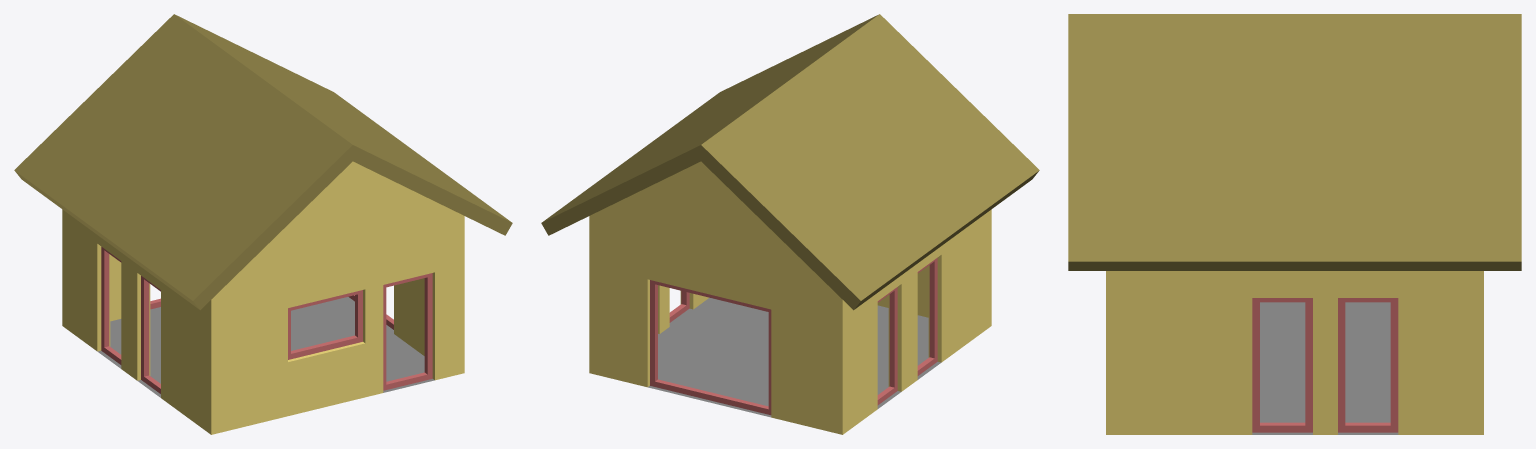
File: result.glb
3 views of the same model, side by side, from view 1: azimuth 30°, elevation 25°; view 2: azimuth 150°, elevation 25°; view 3: azimuth 270°, elevation 25° (orthographic). The views are drawn at different scales.
Visible parts, largest first — view 1: 42b646d1-0370-4e40-a0f1-a20bf0607f18__undefined (×2), 41065627-149d-4558-b892-41cf09c2eee4__undefined, ac9138f0-85b7-4ab2-bd9b-ecd86cc61a55__Plane_8, 0f33c2fe-a102-4fc2-b3b8-2ec8c4fa7dd3__Box, 7f176139-d92b-42cc-9e64-43eaf4fe109a__Box_3, 03ffd76e-5f64-4c4d-80dd-8e0d10544dec__Box_15, 5abbe2c9-0e13-4fb5-b56f-403f4aa543f9__Box_12; view 2: 42b646d1-0370-4e40-a0f1-a20bf0607f18__undefined (×2), 41065627-149d-4558-b892-41cf09c2eee4__undefined, ac9138f0-85b7-4ab2-bd9b-ecd86cc61a55__Plane_8, 7d91fc39-1bcf-4ae3-9a38-3b16a6654d06__Box_9, 5abbe2c9-0e13-4fb5-b56f-403f4aa543f9__Box_12, 03ffd76e-5f64-4c4d-80dd-8e0d10544dec__Box_15; view 3: 42b646d1-0370-4e40-a0f1-a20bf0607f18__undefined, 41065627-149d-4558-b892-41cf09c2eee4__undefined, ac9138f0-85b7-4ab2-bd9b-ecd86cc61a55__Plane_8, ad737393-75e2-4089-89a8-135dbc546488__Box_21, f9382409-e55c-4fcc-8842-f5470c2592c4__Box_18.
Boxes of the visible parts, box(x1,y1,x2,y2) form: 42b646d1-0370-4e40-a0f1-a20bf0607f18__undefined (×2): box(14, 14, 512, 310); 41065627-149d-4558-b892-41cf09c2eee4__undefined: box(62, 161, 464, 434); ac9138f0-85b7-4ab2-bd9b-ecd86cc61a55__Plane_8: box(97, 297, 434, 397); 0f33c2fe-a102-4fc2-b3b8-2ec8c4fa7dd3__Box: box(383, 273, 432, 390); 7f176139-d92b-42cc-9e64-43eaf4fe109a__Box_3: box(288, 290, 362, 359); 03ffd76e-5f64-4c4d-80dd-8e0d10544dec__Box_15: box(101, 247, 121, 364); 5abbe2c9-0e13-4fb5-b56f-403f4aa543f9__Box_12: box(141, 276, 160, 393); 42b646d1-0370-4e40-a0f1-a20bf0607f18__undefined (×2): box(541, 14, 1039, 310); 41065627-149d-4558-b892-41cf09c2eee4__undefined: box(589, 161, 991, 434); ac9138f0-85b7-4ab2-bd9b-ecd86cc61a55__Plane_8: box(648, 297, 940, 417); 7d91fc39-1bcf-4ae3-9a38-3b16a6654d06__Box_9: box(650, 280, 771, 415); 5abbe2c9-0e13-4fb5-b56f-403f4aa543f9__Box_12: box(917, 257, 937, 375); 03ffd76e-5f64-4c4d-80dd-8e0d10544dec__Box_15: box(877, 287, 897, 405); 42b646d1-0370-4e40-a0f1-a20bf0607f18__undefined: box(1068, 14, 1521, 270); 41065627-149d-4558-b892-41cf09c2eee4__undefined: box(1106, 271, 1483, 434); ac9138f0-85b7-4ab2-bd9b-ecd86cc61a55__Plane_8: box(1252, 302, 1398, 434); ad737393-75e2-4089-89a8-135dbc546488__Box_21: box(1338, 298, 1398, 432); f9382409-e55c-4fcc-8842-f5470c2592c4__Box_18: box(1252, 298, 1312, 432).
Bounding box in the file's own units: 620 × 500 × 600.
